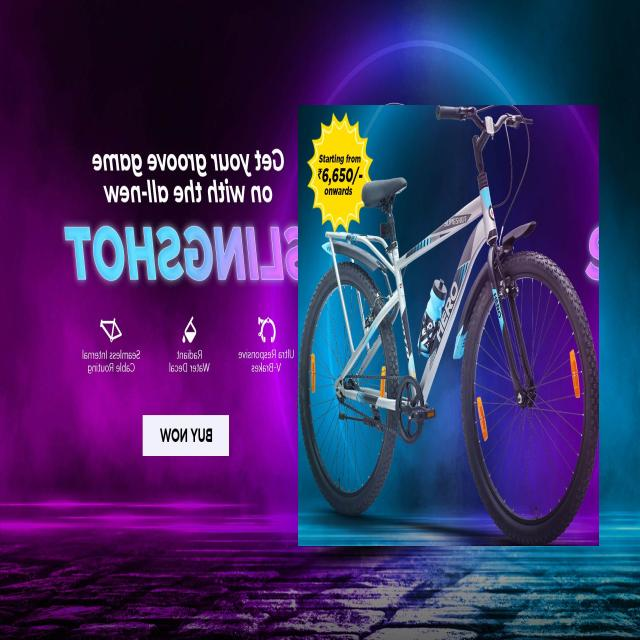bicycle: (298, 105, 599, 546)
